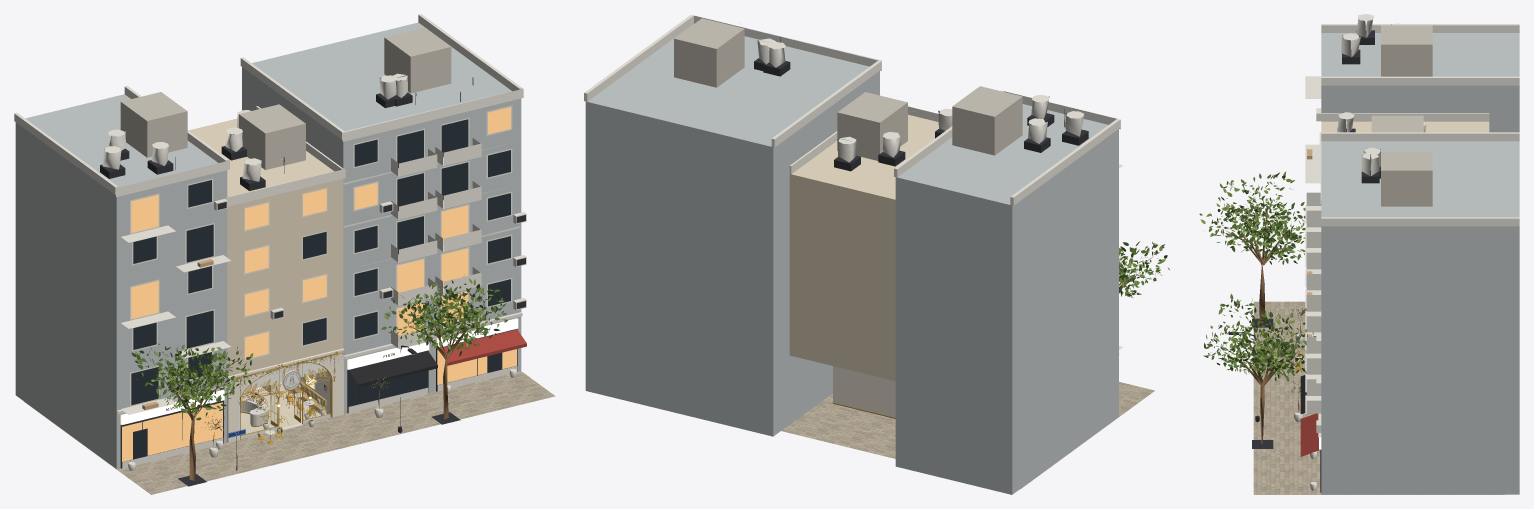
Rendered from square-50_lod2.glb.
3 renders of one model, left to right at view 1: azimuth 30°, elevation 25°; view 2: azimuth 150°, elevation 25°; view 3: azimuth 270°, elevation 25°, orthographic. The views are drawn at different scales.
Visible parts, largest first — view 1: bw6, bwtrim, facade_hi, win, win_lit_n, paving, bw3, leaf, iron, leaf2, sign_n, facade (+8 smaller); view 2: bw6, facade_hi, bw3, bwtrim, paving, plaster, iron, leaf; view 3: bw6, bwtrim, paving, bw3, leaf, leaf2, trunk, facade_hi, iron, aw_r.
Part boxes in pixels (x1,y1,x2,y2): bw6: [15, 22, 521, 468]; bwtrim: [14, 14, 526, 468]; facade_hi: [189, 118, 343, 376]; win: [131, 119, 510, 459]; win_lit_n: [122, 107, 516, 461]; paving: [24, 370, 555, 494]; bw3: [120, 27, 451, 169]; leaf: [131, 279, 506, 416]; iron: [100, 77, 525, 486]; leaf2: [134, 283, 507, 430]; sign_n: [120, 318, 518, 424]; facade: [227, 348, 344, 442]; bw6: [585, 24, 1118, 494]; facade_hi: [789, 114, 938, 381]; bw3: [674, 18, 1022, 160]; bwtrim: [584, 15, 1122, 354]; paving: [781, 382, 1154, 489]; plaster: [833, 366, 895, 417]; iron: [754, 37, 1088, 171]; leaf: [1119, 241, 1169, 297]; bw6: [1321, 33, 1519, 494]; bwtrim: [1305, 14, 1519, 437]; paving: [1253, 301, 1504, 494]; bw3: [1371, 25, 1432, 206]; leaf: [1200, 171, 1307, 381]; leaf2: [1199, 172, 1316, 381]; trunk: [1225, 198, 1306, 444]; facade_hi: [1321, 121, 1489, 132]; iron: [1228, 30, 1380, 492]; aw_r: [1300, 413, 1319, 456].
Bounding box in the file's own units: 30.81 × 22.09 × 21.01.
68 materials, 20 textured.
